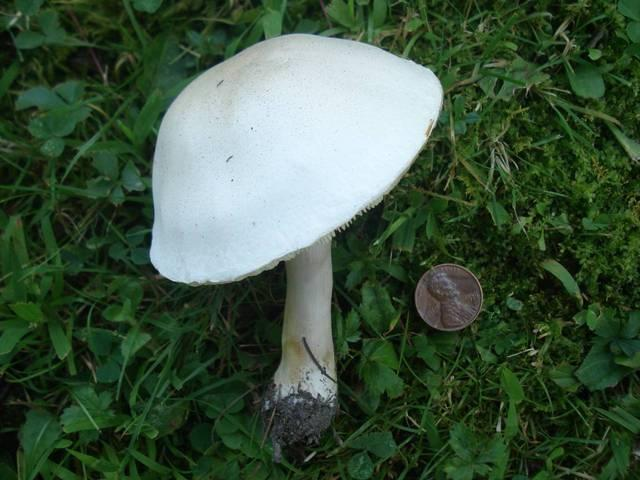Non-edible Mushroom: (147, 31, 444, 461)
